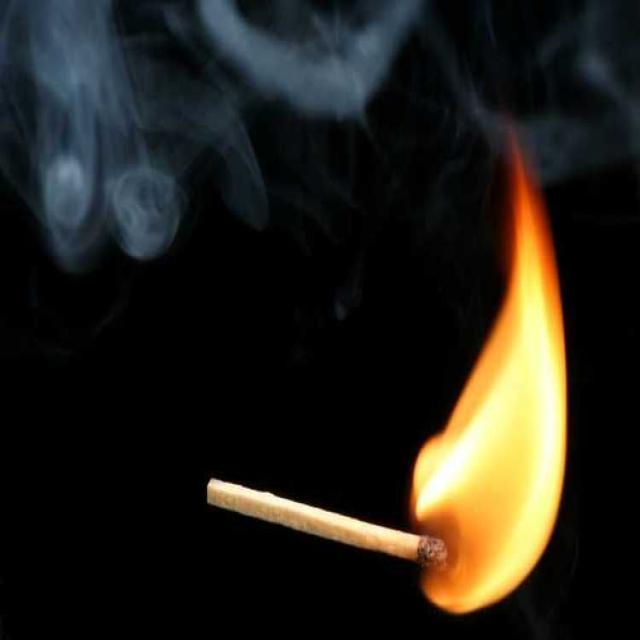Fire: (402, 133, 570, 617)
